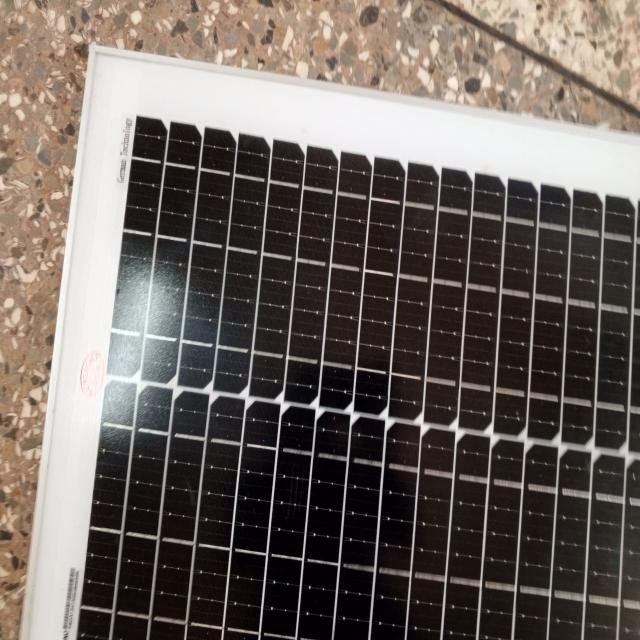Clean: (238, 185, 638, 640)
